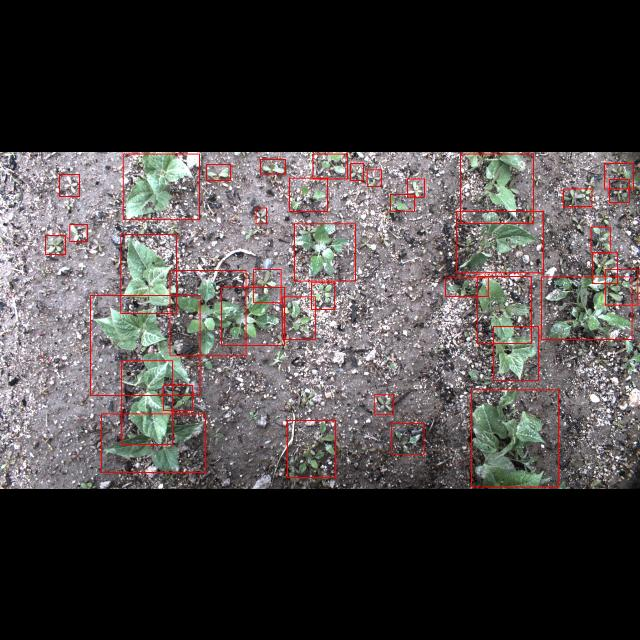crop: (90, 295, 200, 395), (472, 389, 558, 486), (101, 413, 205, 472), (456, 210, 544, 272), (123, 153, 199, 219), (121, 233, 177, 313), (121, 360, 172, 444), (477, 276, 531, 342), (494, 326, 538, 380)
weed: (170, 270, 246, 356), (542, 276, 632, 340), (461, 153, 534, 223), (222, 286, 284, 346), (294, 223, 356, 280), (286, 420, 336, 478), (282, 296, 316, 340), (289, 177, 327, 211), (604, 268, 638, 304), (392, 424, 424, 454), (312, 152, 348, 178), (253, 268, 280, 302), (446, 276, 488, 296), (592, 252, 618, 284), (163, 384, 193, 410), (604, 162, 634, 188), (312, 282, 334, 308), (562, 188, 592, 206), (590, 226, 610, 252), (609, 178, 629, 202), (59, 173, 79, 195), (260, 158, 286, 174), (390, 193, 414, 210), (374, 394, 394, 414), (206, 163, 230, 179), (46, 234, 66, 253), (70, 223, 88, 240), (408, 178, 424, 196), (351, 162, 364, 180), (367, 169, 381, 185), (256, 207, 266, 223)
